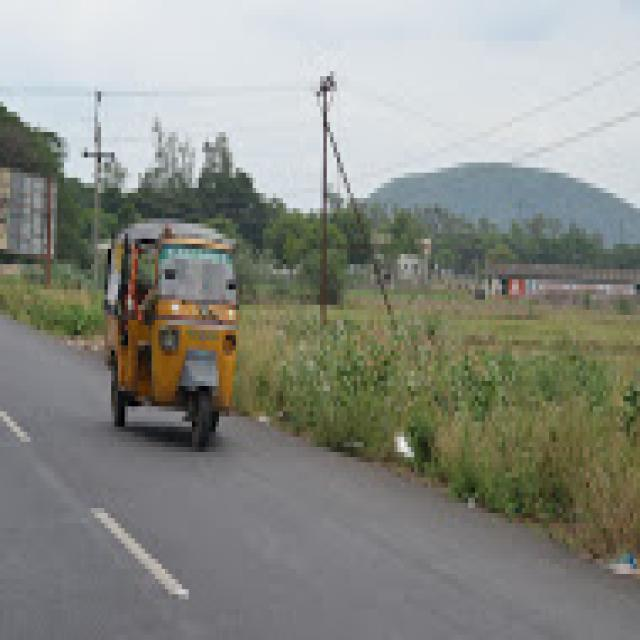auto_front: (105, 209, 245, 442)
